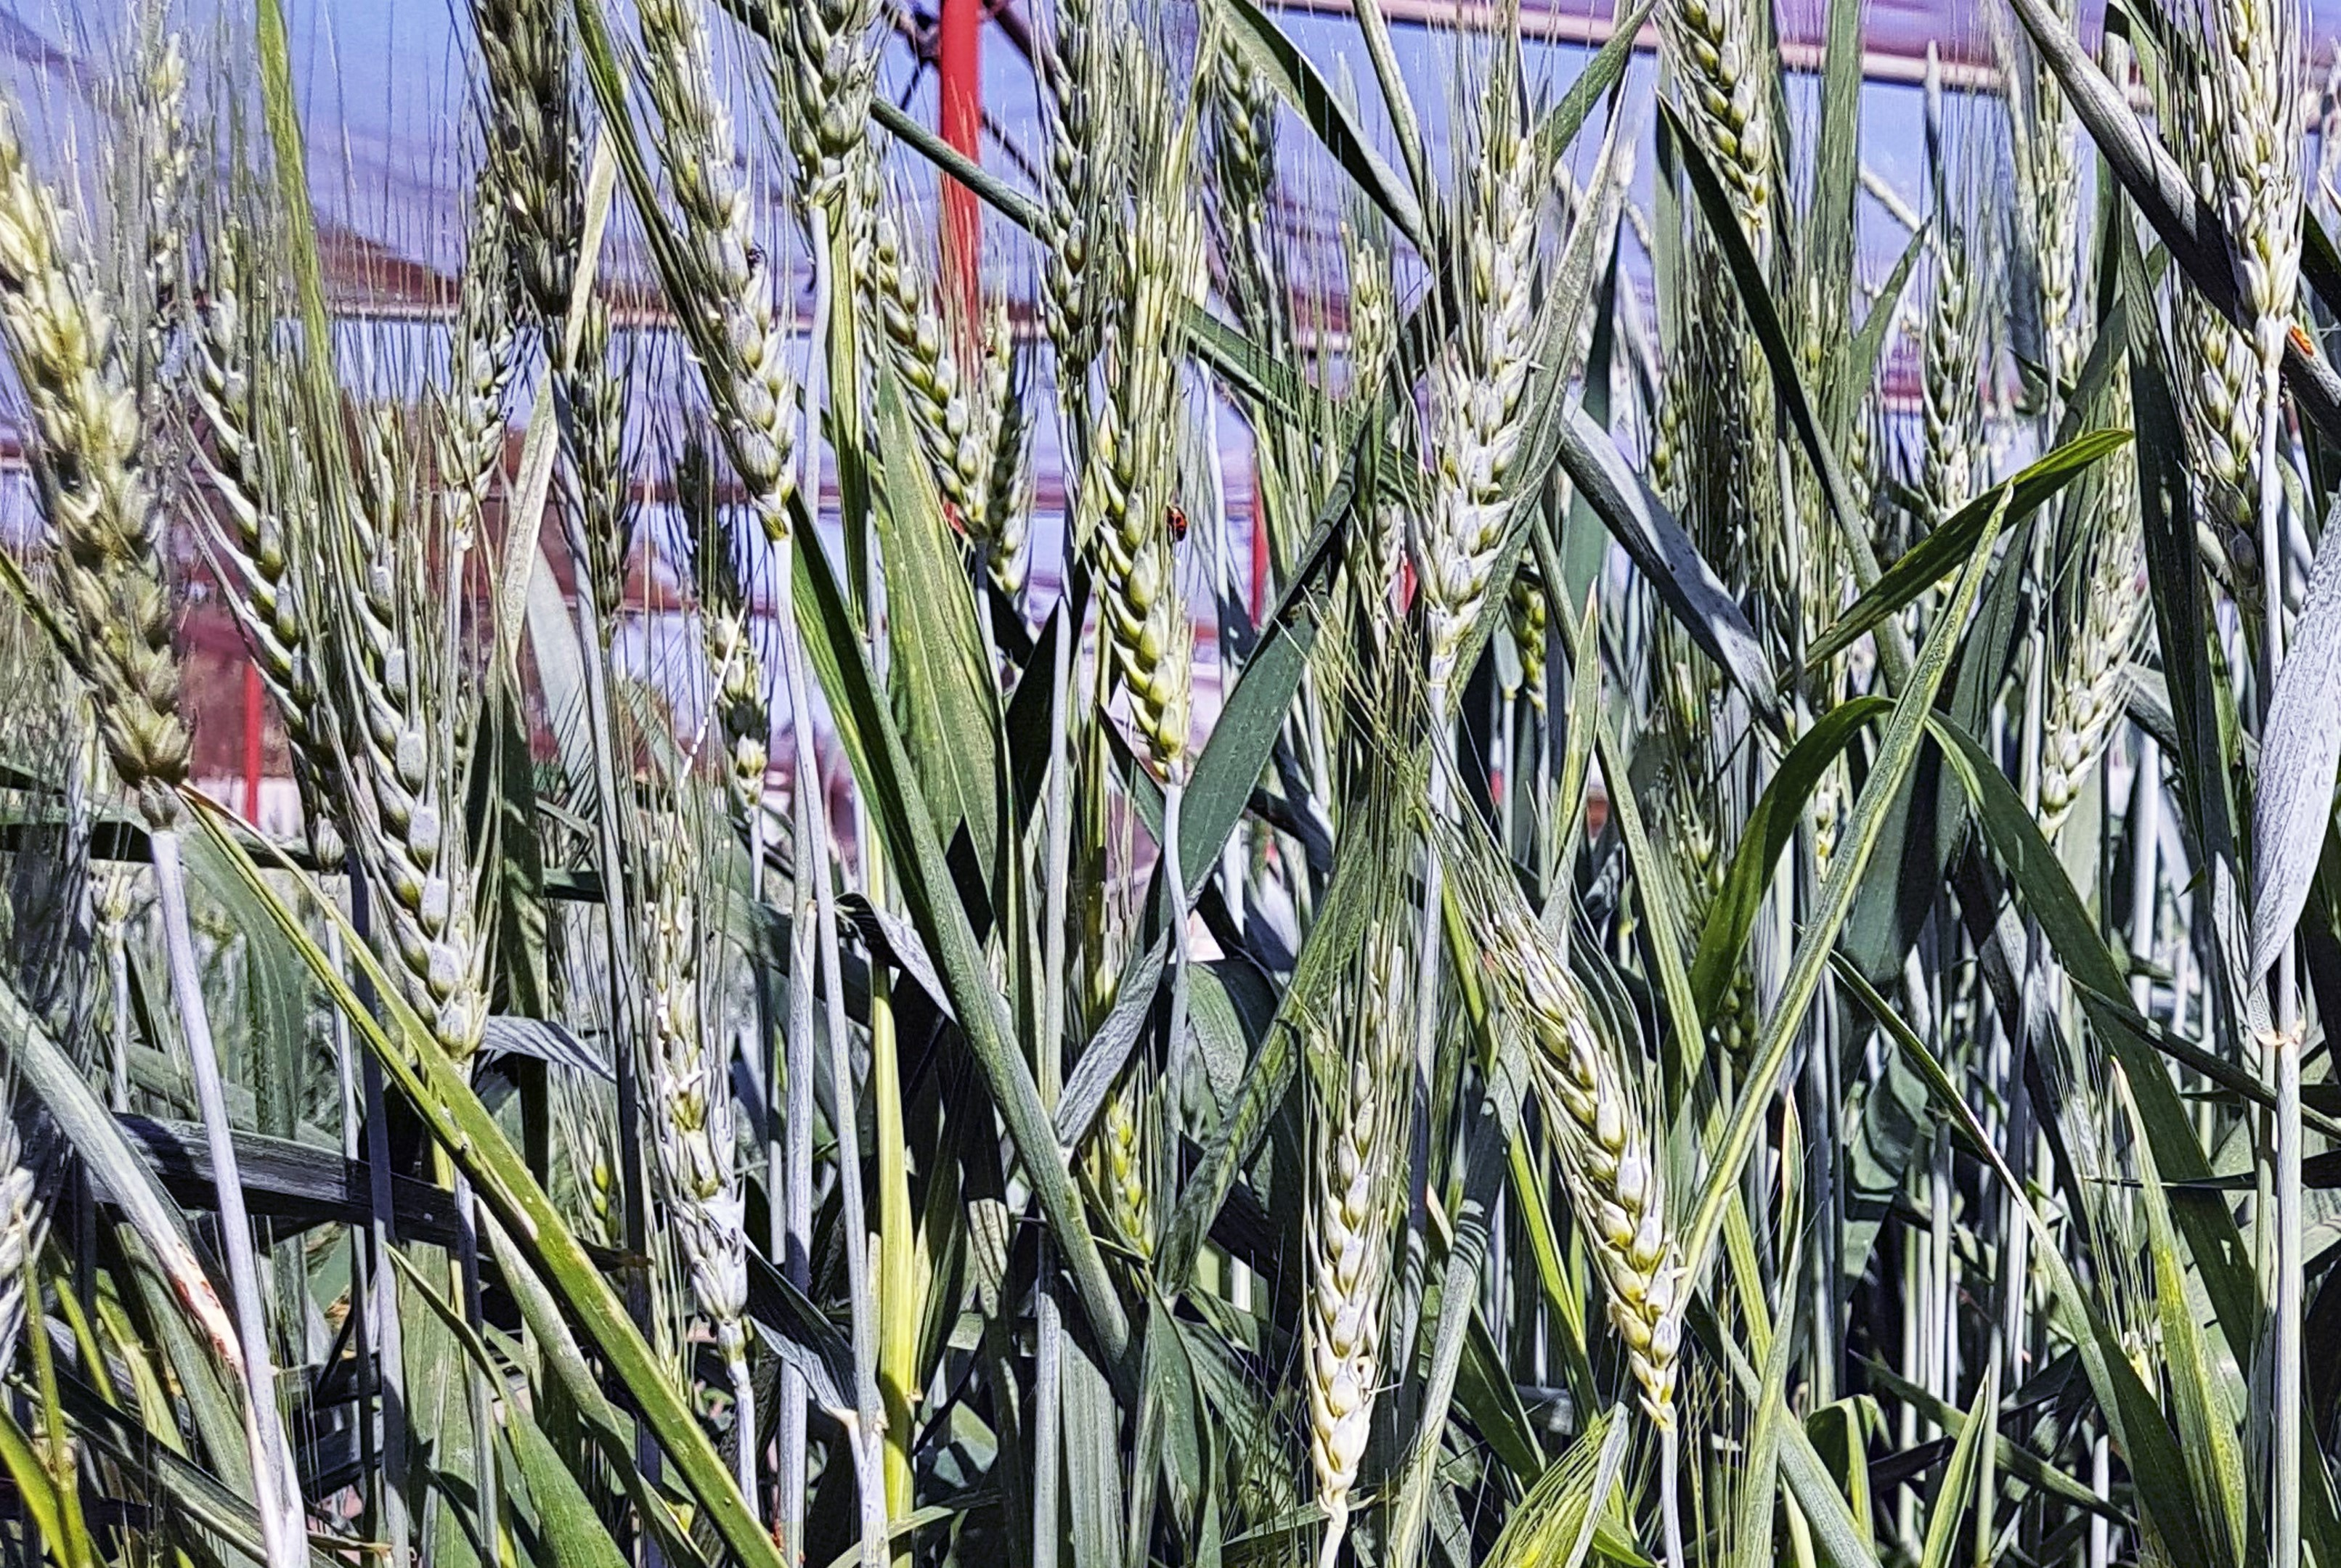Healthy Wheat: (1485, 866, 1729, 1398), (329, 541, 525, 1118), (632, 21, 812, 504), (1274, 1018, 1447, 1508)
